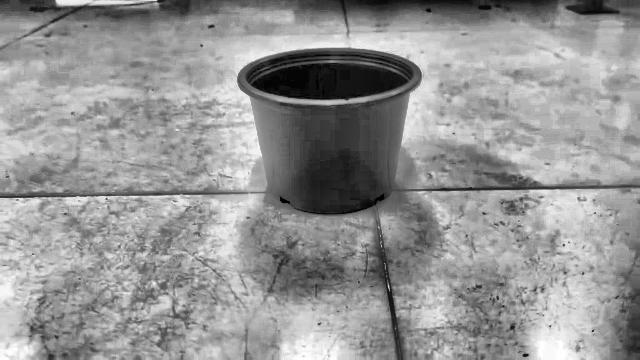pot: (238, 48, 421, 214)
